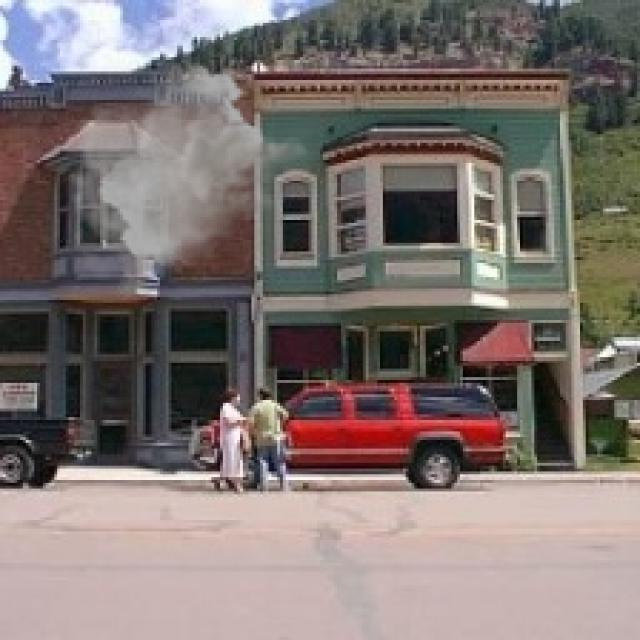smoke: (66, 60, 311, 300)
